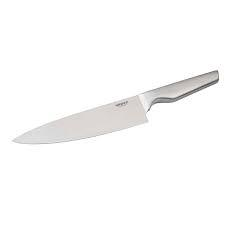Knife: (11, 69, 219, 144)
